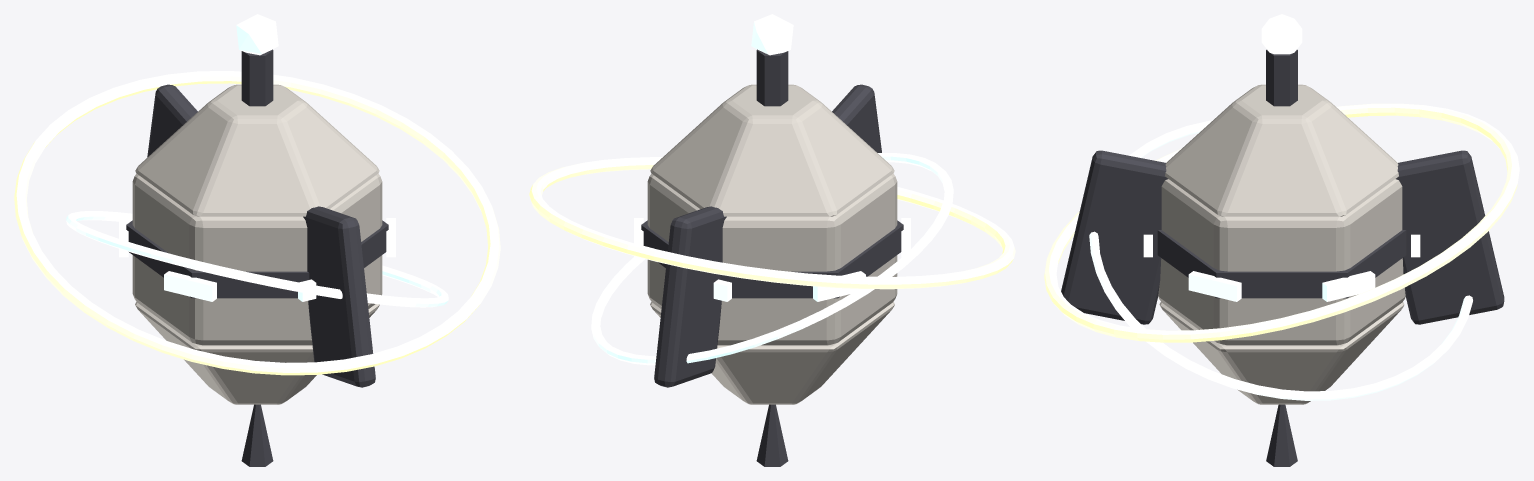
Rendered from wisp_companion.glb.
The picture shows the model from 3 angles, left to right: view 1: azimuth 30°, elevation 25°; view 2: azimuth 150°, elevation 25°; view 3: azimuth 270°, elevation 25°; orthographic projection.
Visible parts, largest first — view 1: cap_top, body, halo_a, fin-1, cap_bot, halo_b, band, fin1, finial, finial_gem, tail, window3; view 2: cap_top, body, halo_a, fin1, cap_bot, halo_b, band, fin-1, finial, finial_gem, tail, window2; view 3: body, cap_top, fin-1, fin1, halo_a, cap_bot, halo_b, band, finial, finial_gem, tail, window5 (+1 smaller).
Boxes of the visible parts, x1=… form: cap_top: x1=135, y1=84, x2=379, y2=216; body: x1=132, y1=173, x2=382, y2=345; halo_a: x1=14, y1=71, x2=500, y2=375; fin-1: x1=303, y1=206, x2=375, y2=387; cap_bot: x1=135, y1=302, x2=379, y2=404; halo_b: x1=66, y1=211, x2=448, y2=307; band: x1=126, y1=220, x2=388, y2=298; fin1: x1=147, y1=84, x2=197, y2=157; finial: x1=241, y1=49, x2=273, y2=106; finial_gem: x1=236, y1=14, x2=278, y2=55; tail: x1=241, y1=404, x2=273, y2=466; window3: x1=164, y1=271, x2=216, y2=301; cap_top: x1=650, y1=84, x2=894, y2=216; body: x1=647, y1=173, x2=897, y2=345; halo_a: x1=529, y1=157, x2=1015, y2=289; fin1: x1=654, y1=206, x2=726, y2=387; cap_bot: x1=650, y1=302, x2=894, y2=404; halo_b: x1=591, y1=153, x2=953, y2=365; band: x1=641, y1=220, x2=903, y2=298; fin-1: x1=832, y1=84, x2=881, y2=152; finial: x1=756, y1=49, x2=788, y2=106; finial_gem: x1=751, y1=14, x2=793, y2=55; tail: x1=756, y1=404, x2=788, y2=466; window2: x1=813, y1=271, x2=865, y2=301; body: x1=1158, y1=179, x2=1405, y2=345; cap_top: x1=1165, y1=84, x2=1398, y2=216; fin-1: x1=1061, y1=150, x2=1167, y2=324; fin1: x1=1396, y1=150, x2=1504, y2=324; halo_a: x1=1044, y1=103, x2=1519, y2=342; cap_bot: x1=1159, y1=302, x2=1404, y2=404; halo_b: x1=1089, y1=120, x2=1472, y2=400; band: x1=1157, y1=230, x2=1406, y2=298; finial: x1=1266, y1=49, x2=1297, y2=106; finial_gem: x1=1261, y1=14, x2=1302, y2=54; tail: x1=1266, y1=404, x2=1297, y2=466; window5: x1=1188, y1=271, x2=1241, y2=301.
Bounding box in the file's own units: 0.616 × 0.62 × 0.5977.
